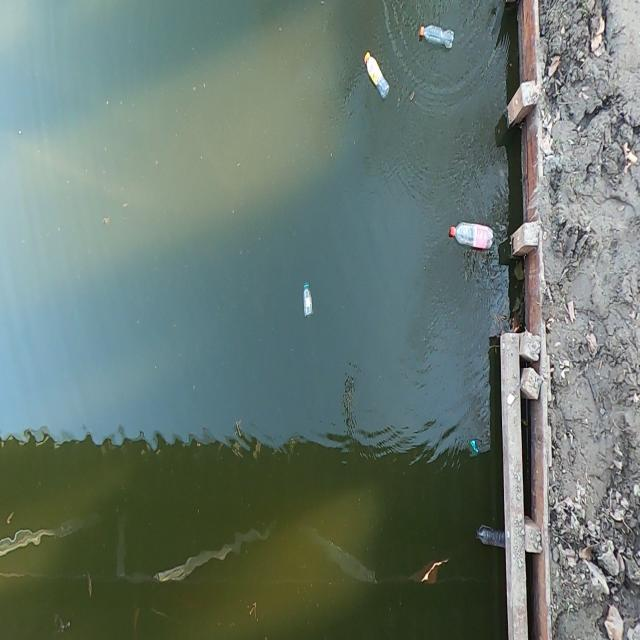Bouteille plastique: (448, 220, 495, 252), (364, 52, 391, 104), (419, 24, 456, 53), (475, 524, 502, 552), (302, 283, 314, 322)
